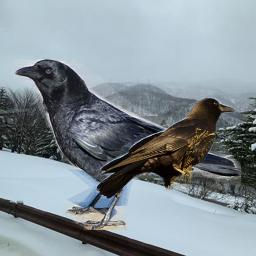Crow: (14, 59, 241, 230), (96, 94, 239, 203)
